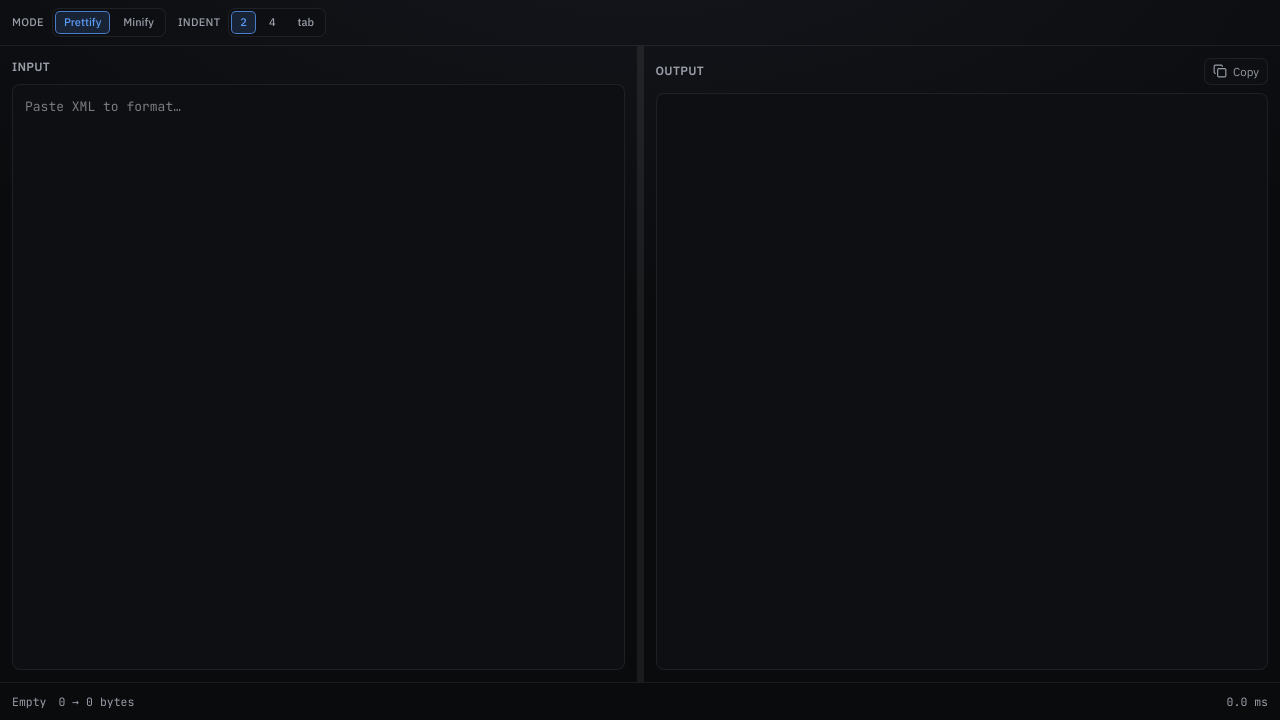
XmlFormatterTool › clears output and shows the parsererror on invalid XML
The image size is (1280, 720).
Step 1. Type "<a><b></a>" into the text box with id "xml-input" → (318, 377), box [12,84,624,670]
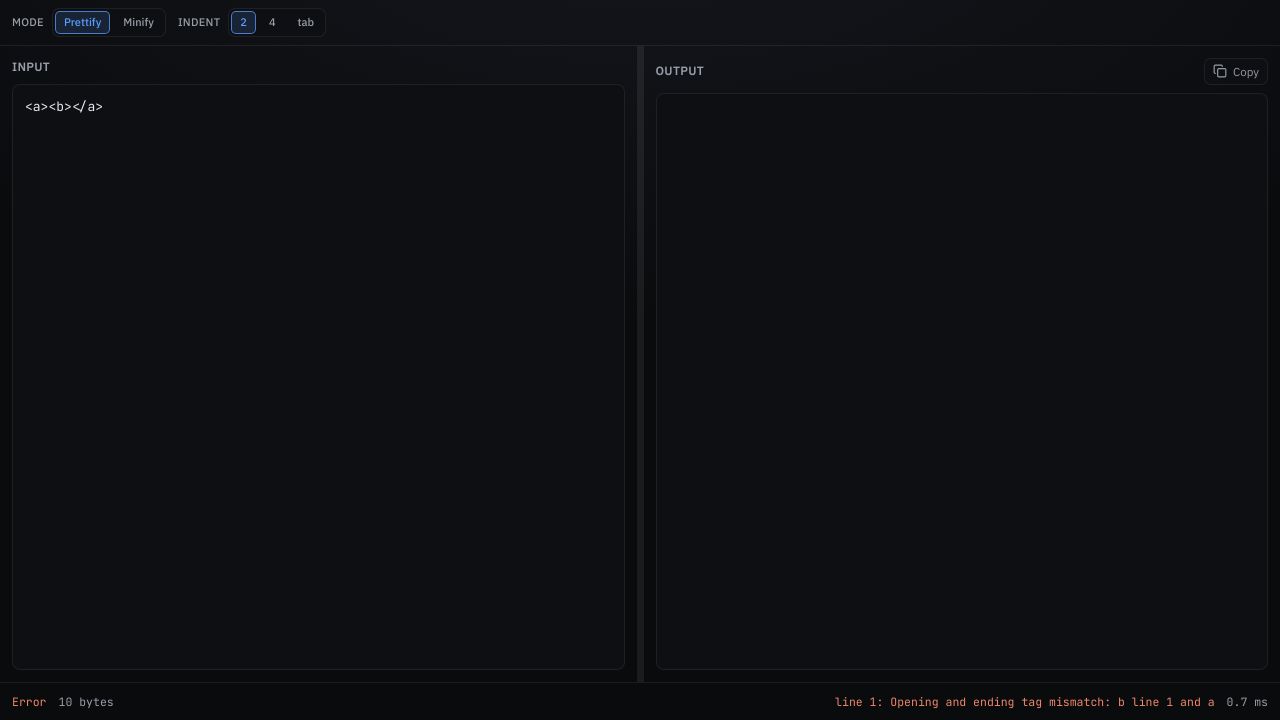
Check: the text box with id "xml-output" is empty, box [656,93,1268,670]
Check: the text named "parse state" reads "Error", box [12,694,46,709]
